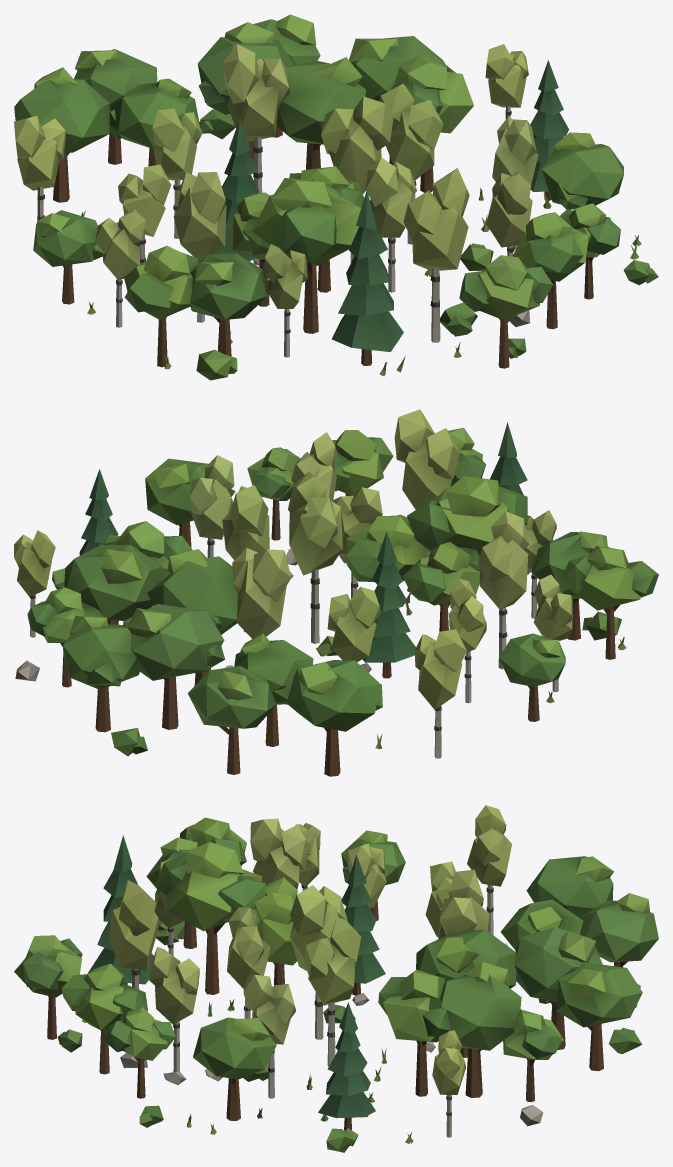
Rendered from forest_mixed_b.glb.
The picture shows the model from 3 angles, top to bottom: view 1: azimuth 30°, elevation 25°; view 2: azimuth 150°, elevation 25°; view 3: azimuth 270°, elevation 25°; orthographic projection. The views are drawn at different scales.
Visible parts, largest first — view 1: forest_mixed_b; view 2: forest_mixed_b; view 3: forest_mixed_b.
Boxes of the visible parts, x1,y1,x2,y2 form: forest_mixed_b: [14, 14, 658, 380]; forest_mixed_b: [14, 409, 658, 776]; forest_mixed_b: [14, 805, 658, 1152].
Size of the model in its own units: 16.28 by 4.98 by 17.81.
